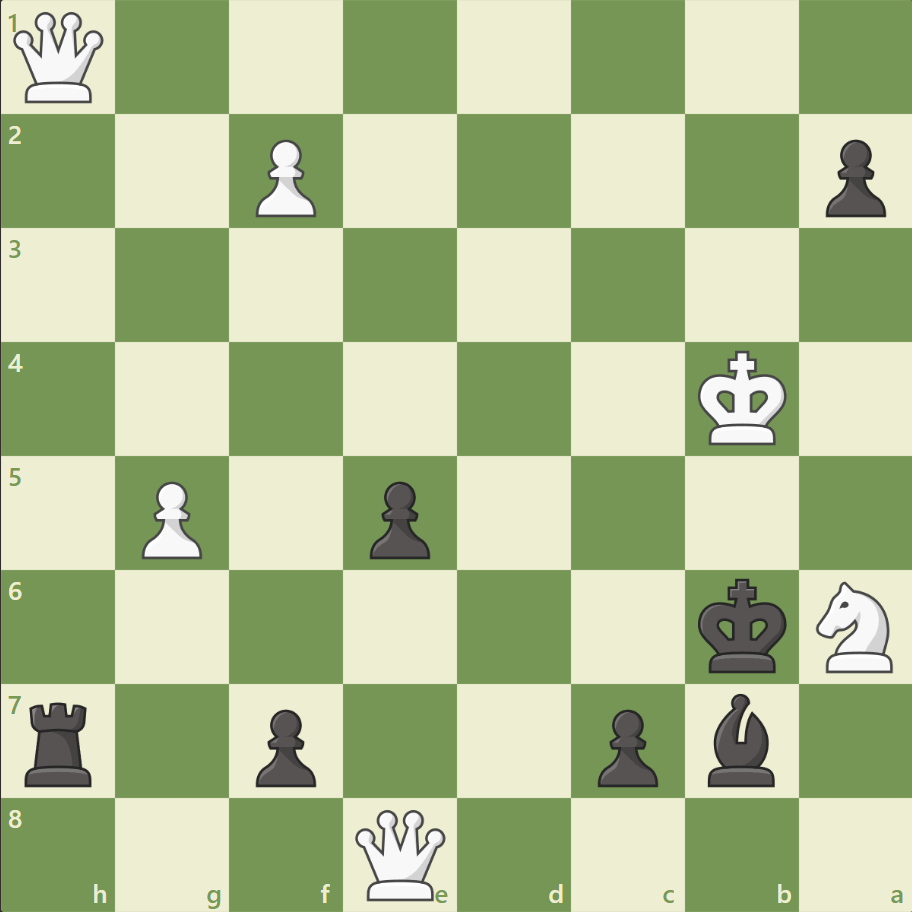K: (692, 344, 792, 452)
N: (806, 575, 903, 677)
P: (133, 473, 208, 564), (247, 132, 322, 223)
Q: (351, 804, 450, 903), (10, 9, 109, 108)
b: (698, 687, 782, 790)
k: (692, 571, 792, 679)
p: (247, 700, 322, 791), (588, 700, 662, 791), (361, 473, 435, 564), (815, 132, 889, 223)
r: (19, 693, 102, 790)
